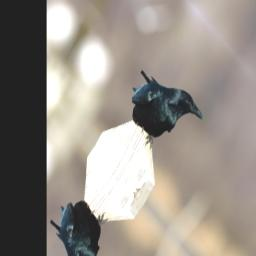Crow: (117, 52, 206, 171)
